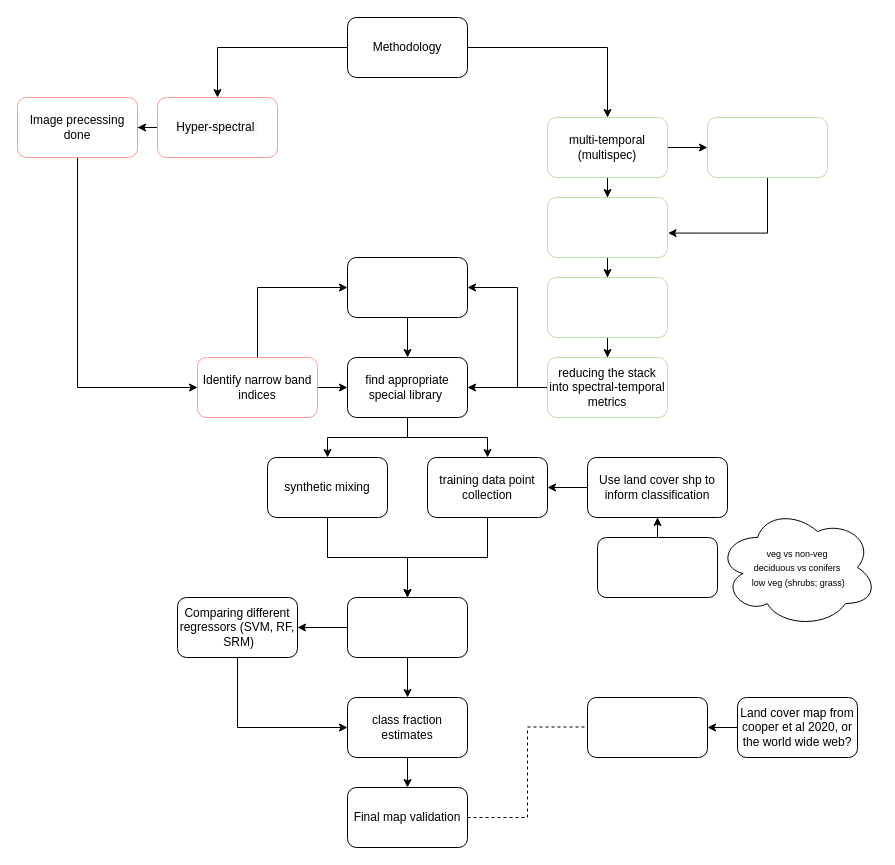
Image size: 895x865. Some labels were removed from this diagram. The box of each missing label's shape, as (x1, y1, x2, y2) in pixels:
Combined stack of hyper-spectral and multitemporal: (346, 256, 468, 318)
external data validation: (586, 696, 708, 758)
ID Classes ?: (596, 536, 718, 598)
Order by acquisition date: (546, 196, 668, 258)
QA and cloud masking: (706, 116, 828, 178)
regression model training: (346, 596, 468, 658)
Stacking procedure for ladsat 7&8?: (546, 276, 668, 338)
